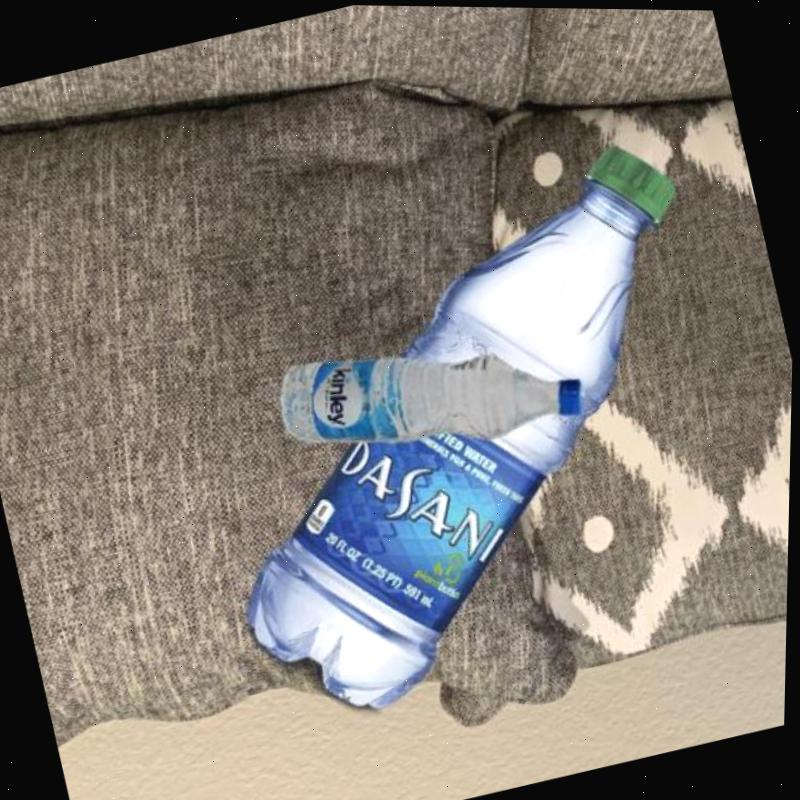botella: (162, 131, 780, 734), (272, 294, 594, 486)
